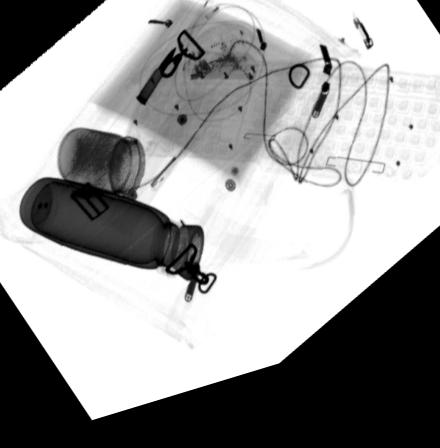Bullet: (135, 54, 177, 115)
